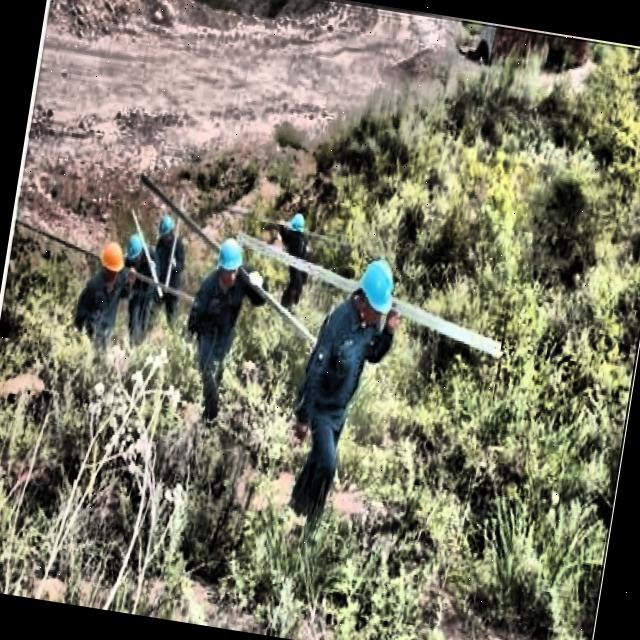helmet: (350, 254, 401, 328), (90, 233, 130, 290), (212, 234, 244, 286), (152, 210, 183, 250), (120, 228, 150, 268), (286, 207, 312, 246)
